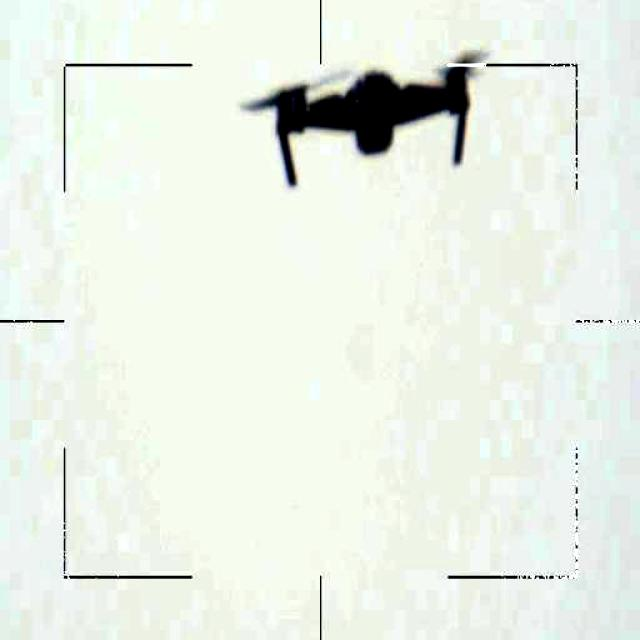bird: (234, 45, 495, 190)
